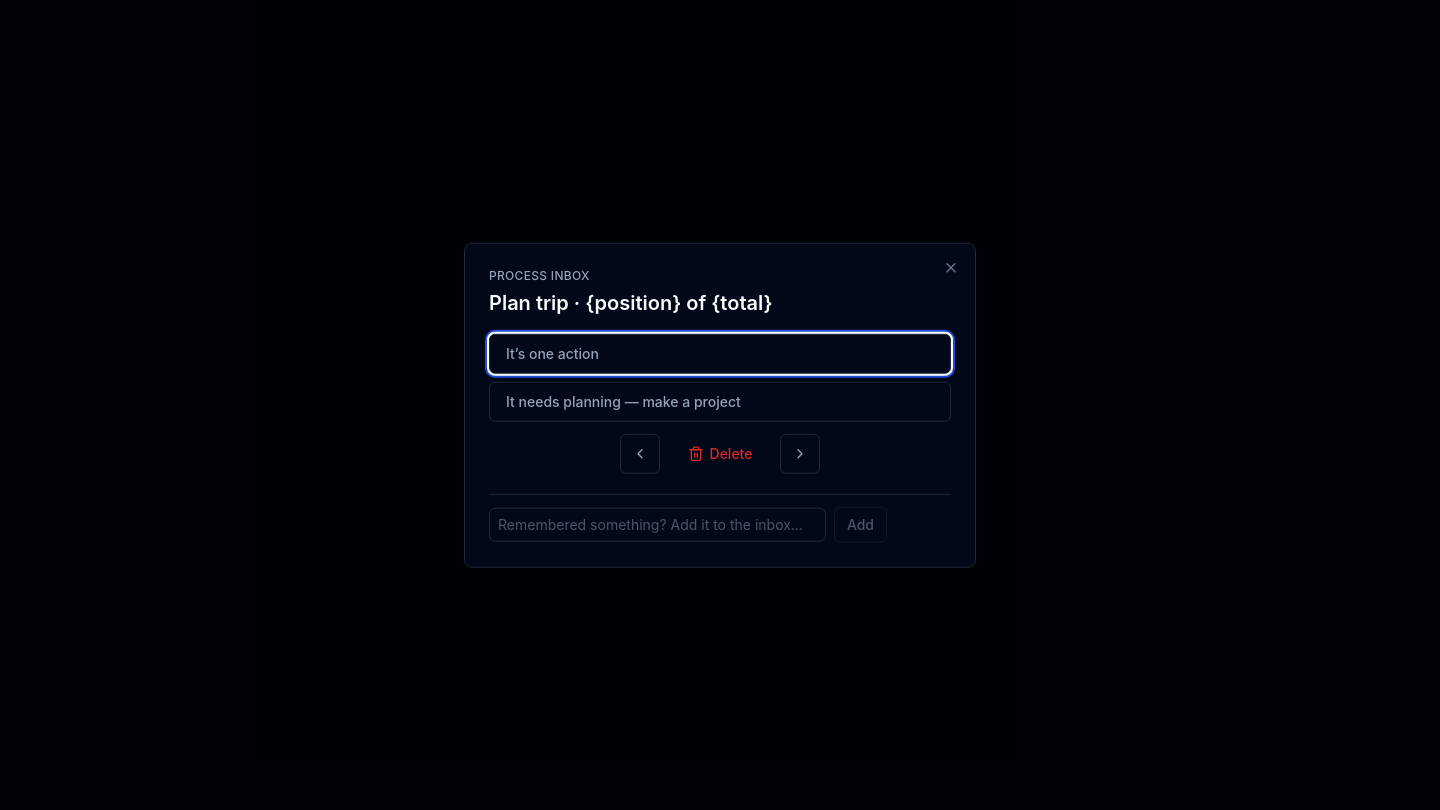
Test: InboxProcessDialog › deck mode: quick-capture adds a new inbox item without leaving the deck, and `c` focuses it (#1119)
The image size is (1440, 810).
Press c
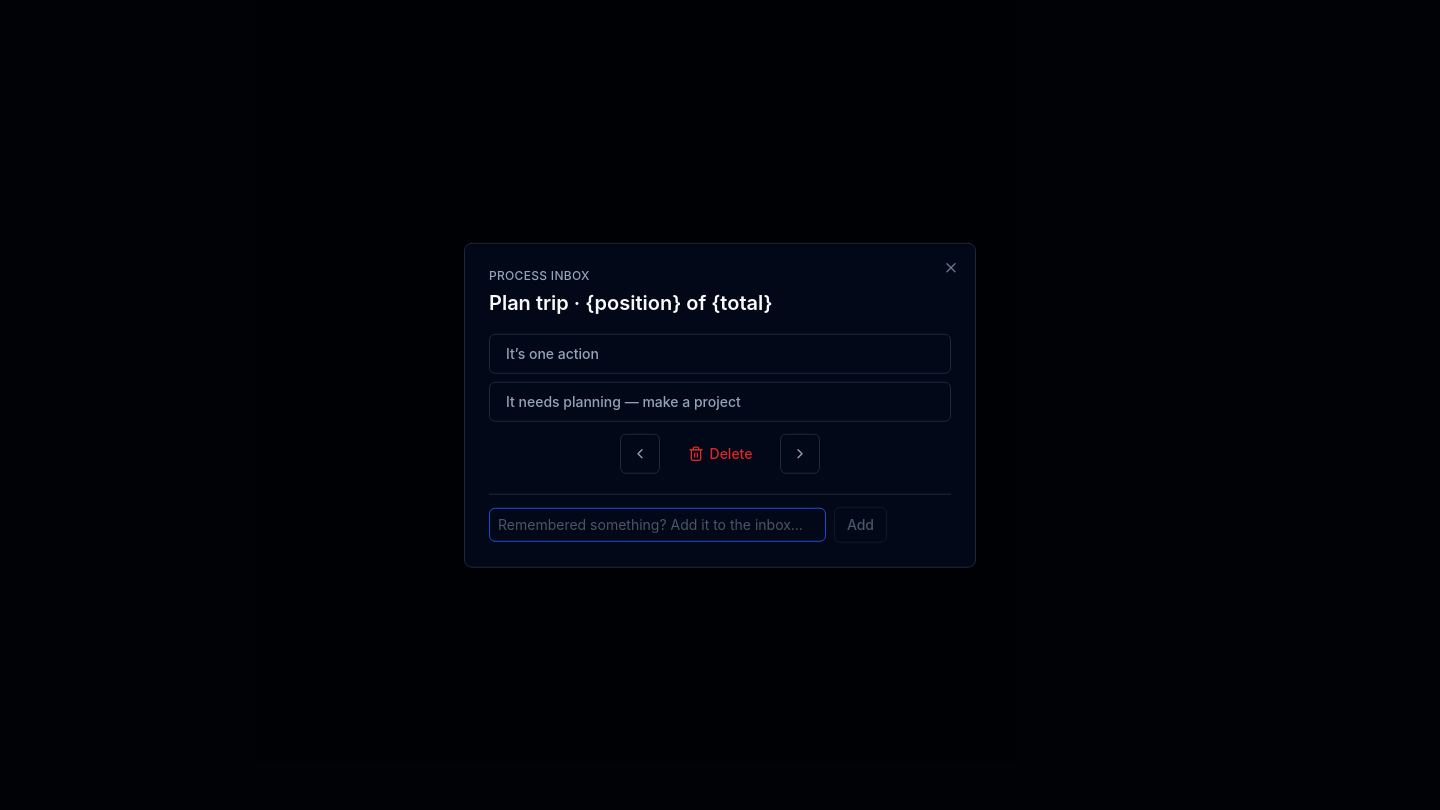
Note: A remembered thought → trimmed, dispatched to the inbox, field cleared + refocused, confirmation shown.
In the field named "Capture another inbox item": (657, 524) left=489, top=507, right=826, bottom=541, type "  Call the vet  "
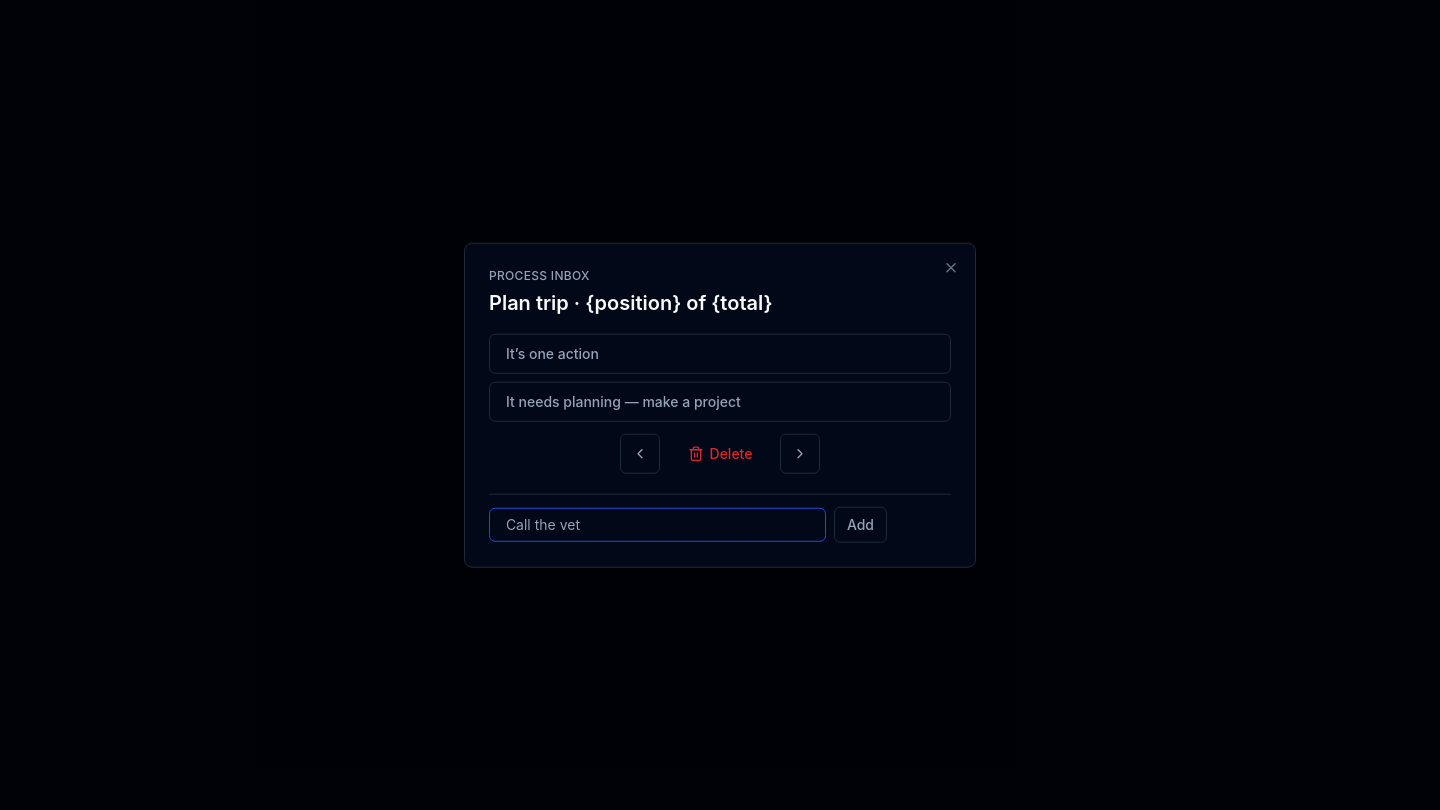
Submit the form named "Capture another inbox item", box left=489, top=493, right=951, bottom=542
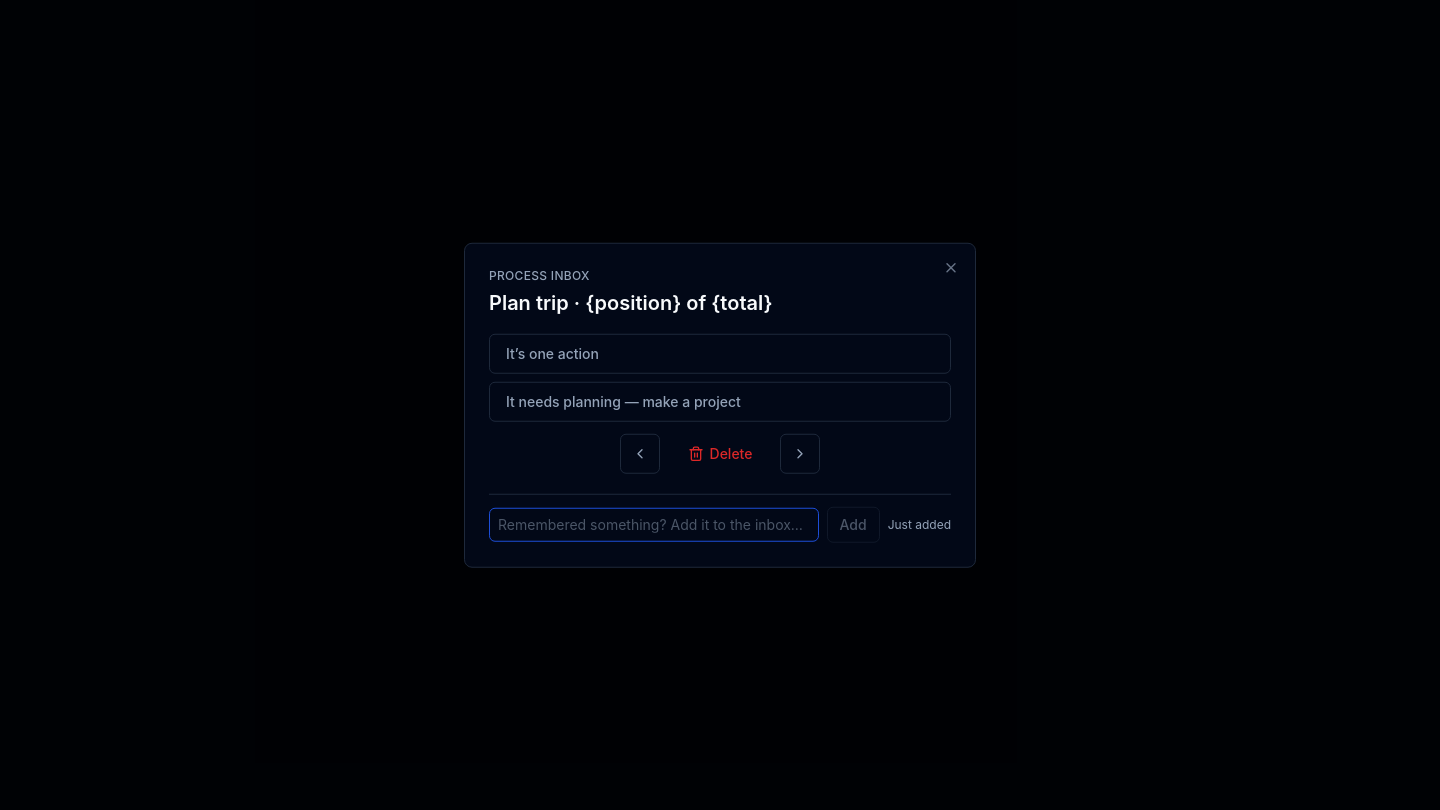
Expected: the field named "Capture another inbox item" is empty, left=489, top=507, right=818, bottom=541
Expected: the text "Just added" is shown, left=888, top=516, right=951, bottom=532
